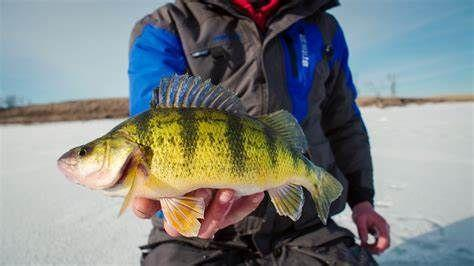Perch: (55, 69, 350, 234)
